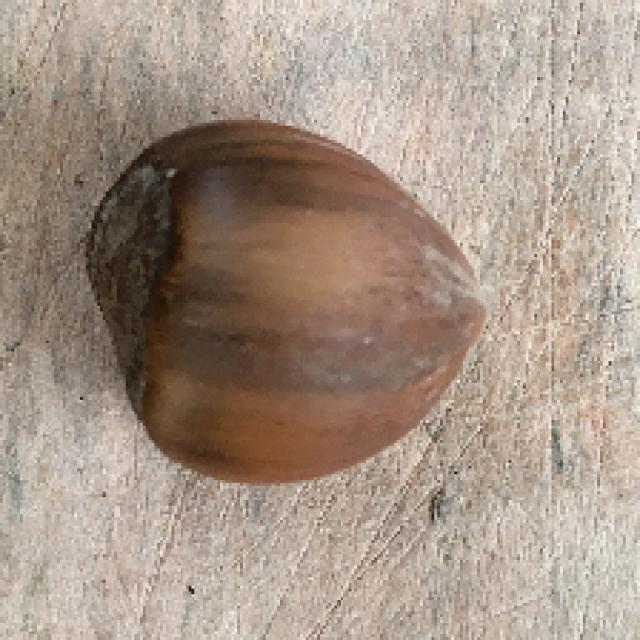damagedHazelnut: (78, 114, 488, 482)
